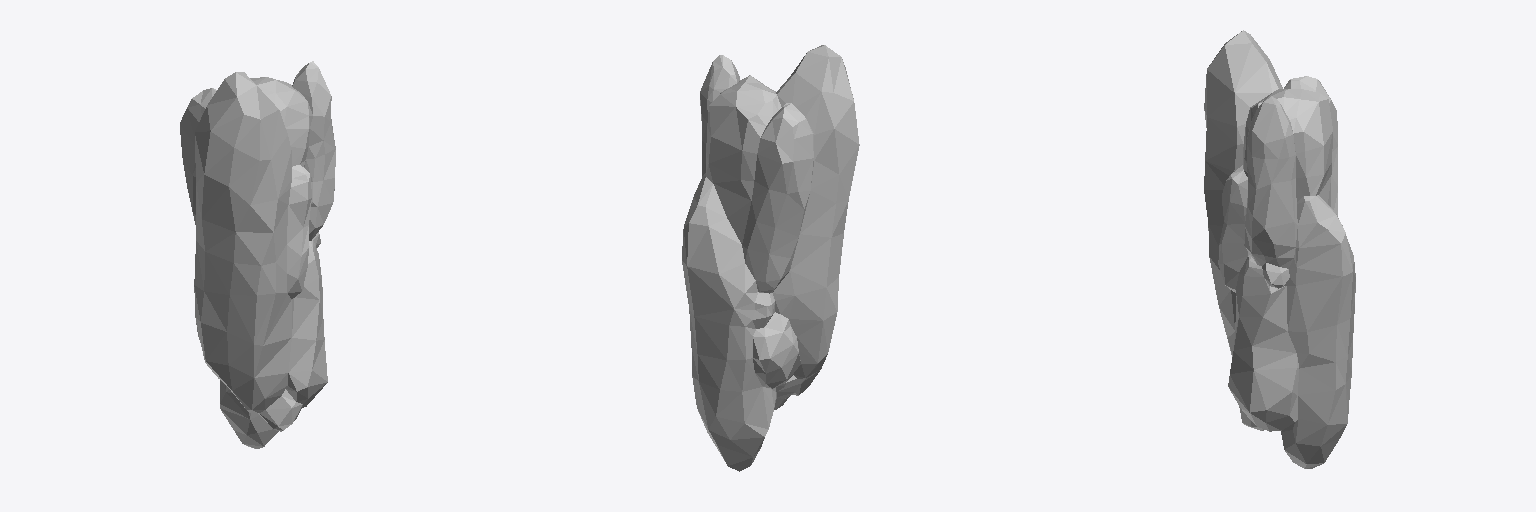
The model's file is rock_02.obj.
3 views of the same model, side by side, from view 1: azimuth 30°, elevation 25°; view 2: azimuth 150°, elevation 25°; view 3: azimuth 270°, elevation 25° (orthographic).
Visible parts, largest first — view 1: RockForm01_LP; view 2: RockForm01_LP; view 3: RockForm01_LP.
Boxes of the visible parts, x1=… form: RockForm01_LP: x1=180, y1=61, x2=335, y2=448; RockForm01_LP: x1=682, y1=45, x2=859, y2=471; RockForm01_LP: x1=1204, y1=30, x2=1355, y2=468.
Size of the model in its own units: 3.2 by 8.83 by 2.94.